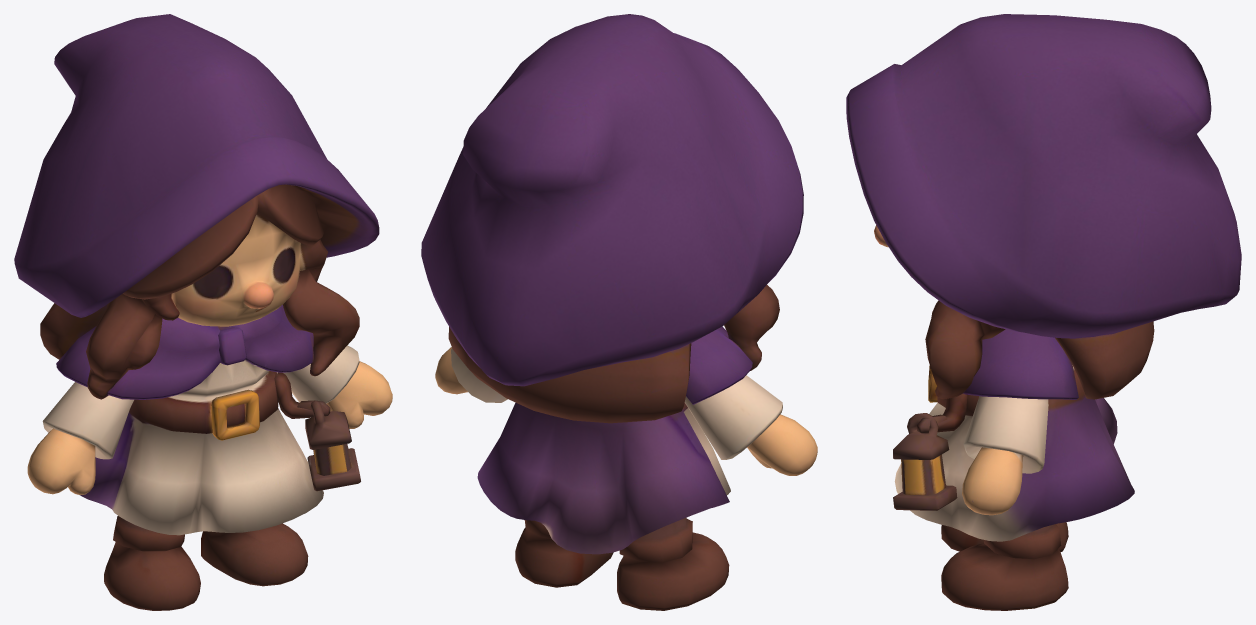
File: witch_tripo_segmented_packuv.glb
3 renders of one model, left to right at view 1: azimuth 30°, elevation 25°; view 2: azimuth 150°, elevation 25°; view 3: azimuth 270°, elevation 25°, orthographic. The views are drawn at different scales.
Parts seen in each view (by area): view 1: tripo_part_0, tripo_part_1, tripo_part_2, tripo_part_3, tripo_part_6, tripo_part_5, tripo_part_4, tripo_part_8, tripo_part_7, tripo_part_9, tripo_part_10, tripo_part_12 (+1 smaller); view 2: tripo_part_0, tripo_part_1, tripo_part_4, tripo_part_3, tripo_part_2, tripo_part_6, tripo_part_5; view 3: tripo_part_0, tripo_part_1, tripo_part_6, tripo_part_5, tripo_part_4, tripo_part_7, tripo_part_12, tripo_part_10, tripo_part_9, tripo_part_3.
Part boxes in pixels (x1=…): tripo_part_0: x1=14, y1=14, x2=379, y2=399; tripo_part_1: x1=56, y1=305, x2=323, y2=535; tripo_part_2: x1=27, y1=382, x2=133, y2=494; tripo_part_3: x1=104, y1=516, x2=200, y2=610; tripo_part_6: x1=201, y1=523, x2=308, y2=586; tripo_part_5: x1=277, y1=345, x2=392, y2=428; tripo_part_4: x1=40, y1=303, x2=107, y2=359; tripo_part_8: x1=211, y1=389, x2=259, y2=440; tripo_part_7: x1=305, y1=401, x2=351, y2=449; tripo_part_9: x1=274, y1=372, x2=330, y2=418; tripo_part_10: x1=307, y1=448, x2=360, y2=491; tripo_part_12: x1=313, y1=444, x2=352, y2=475; tripo_part_0: x1=421, y1=14, x2=803, y2=386; tripo_part_1: x1=477, y1=326, x2=752, y2=554; tripo_part_4: x1=448, y1=327, x2=691, y2=423; tripo_part_3: x1=617, y1=517, x2=729, y2=610; tripo_part_2: x1=684, y1=375, x2=817, y2=475; tripo_part_6: x1=515, y1=520, x2=613, y2=587; tripo_part_5: x1=435, y1=347, x2=507, y2=402; tripo_part_0: x1=846, y1=14, x2=1241, y2=399; tripo_part_1: x1=894, y1=329, x2=1134, y2=541; tripo_part_6: x1=941, y1=524, x2=1068, y2=610; tripo_part_5: x1=962, y1=396, x2=1048, y2=515; tripo_part_4: x1=1055, y1=321, x2=1154, y2=399; tripo_part_7: x1=893, y1=413, x2=949, y2=459; tripo_part_12: x1=901, y1=454, x2=946, y2=495; tripo_part_10: x1=893, y1=485, x2=957, y2=510; tripo_part_9: x1=917, y1=393, x2=967, y2=433; tripo_part_3: x1=941, y1=522, x2=1068, y2=551.
Bounding box in the file's own units: 0.7065 × 0.9995 × 0.6558.
1 material, 1 textured.
